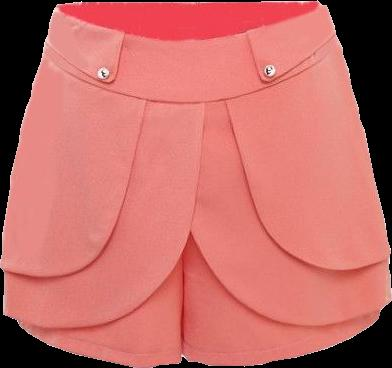Hemline: (2, 102, 211, 329), (224, 100, 391, 270), (0, 100, 147, 278), (190, 233, 391, 328), (183, 312, 381, 367), (16, 319, 184, 367), (244, 31, 335, 83), (45, 33, 126, 81)
Pantleg: (182, 1, 391, 365), (0, 2, 208, 366)
Waistline: (42, 42, 339, 105), (54, 4, 324, 41)
